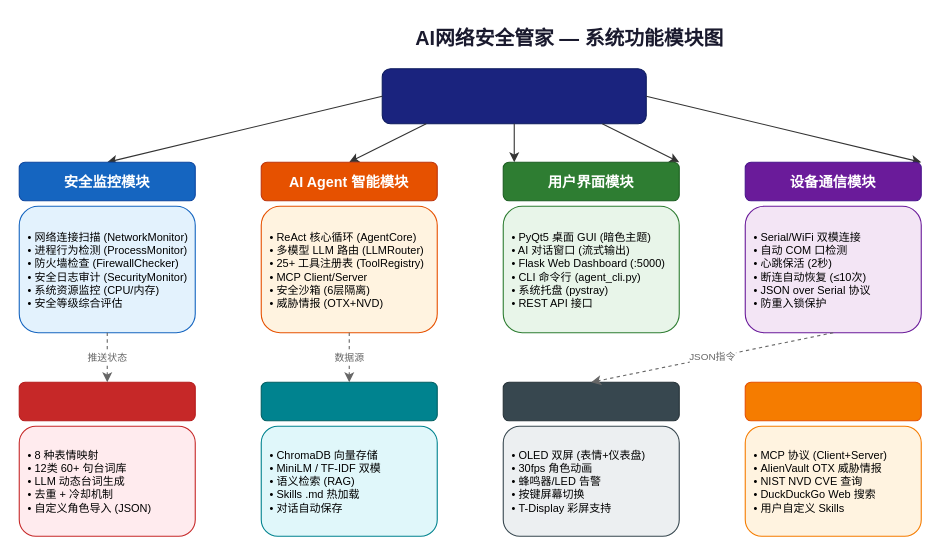
The diagram is 949 pixels wide and 556 high, and some of its shapes have lost their labels. The centre of each missing label's shape, as x and y in pixels:
AI 网络安全管家: point 513,96
ESP32 固件: point 590,401
扩展能力: point 832,401
知识库 & Skills: point 348,401
角色陪伴系统: point 106,401
